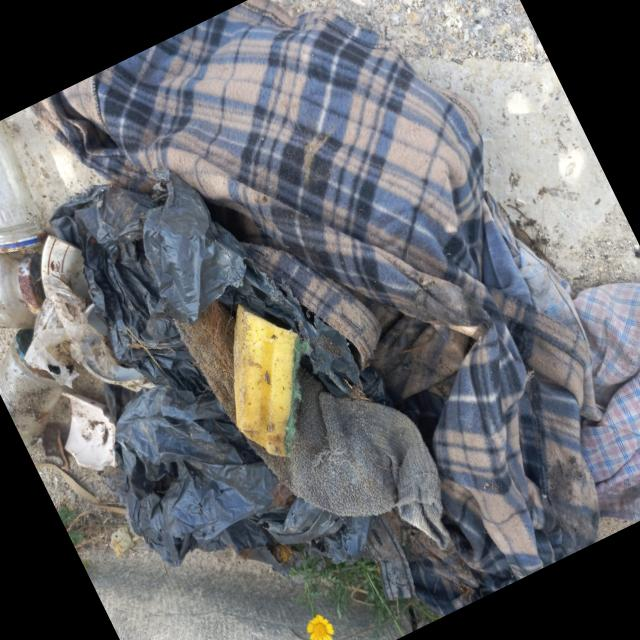Bottle: (0, 325, 67, 458), (0, 119, 49, 254), (0, 251, 49, 330)
Other litter: (23, 0, 604, 617), (173, 263, 449, 552), (575, 279, 640, 521), (229, 299, 303, 456)
Plastic bag - wrapper: (24, 186, 377, 573)
